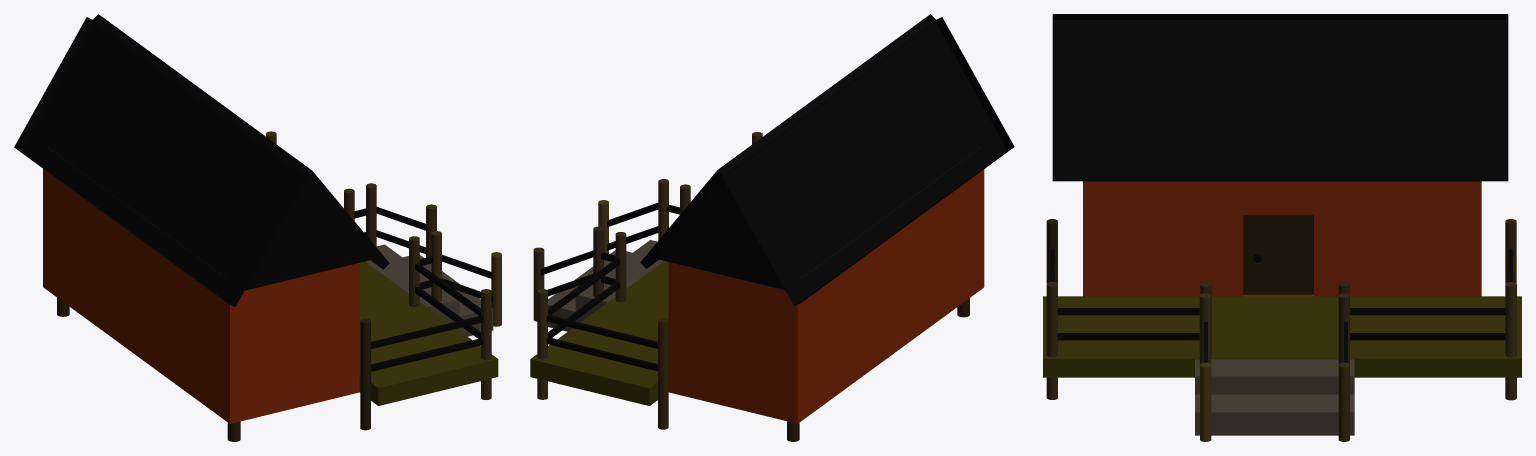
File: BIGHOUSE2.glb
3 renders of one model, left to right at view 1: azimuth 30°, elevation 25°; view 2: azimuth 150°, elevation 25°; view 3: azimuth 270°, elevation 25°, orthographic. The views are drawn at different scales.
Visible parts, largest first — view 1: Plane.003; view 2: Plane.003; view 3: Plane.003.
Boxes of the visible parts, box(x1,y1,x2,y2) form: Plane.003: box(14, 14, 501, 441); Plane.003: box(530, 14, 1014, 441); Plane.003: box(1043, 14, 1521, 441).
Bounding box in the file's own units: 5.31 × 4 × 6.
